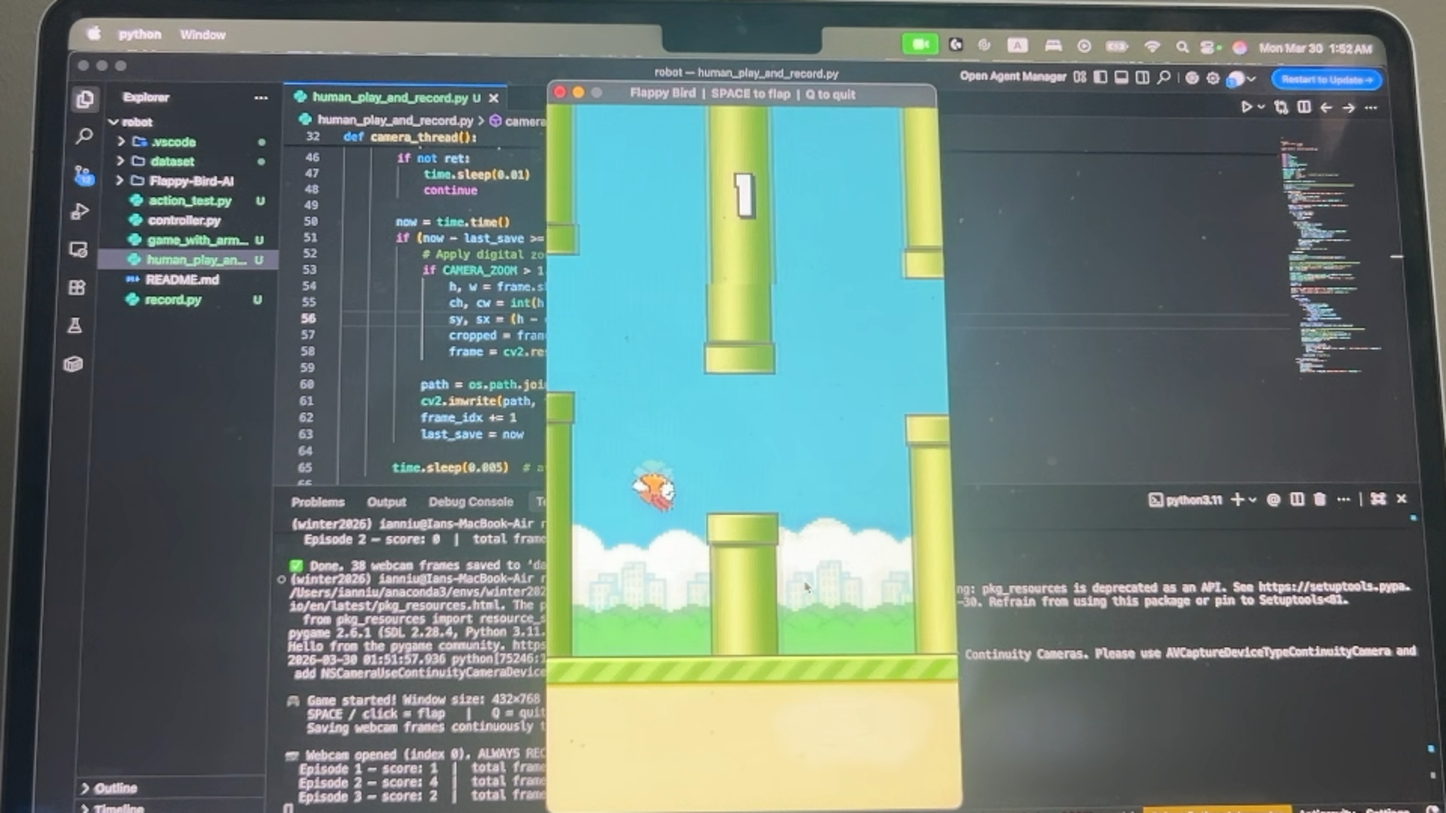bird: (631, 465, 680, 521)
green pipes: (709, 111, 778, 371), (906, 418, 960, 653), (710, 514, 778, 656), (546, 391, 576, 663), (902, 109, 943, 280), (542, 104, 580, 256)
